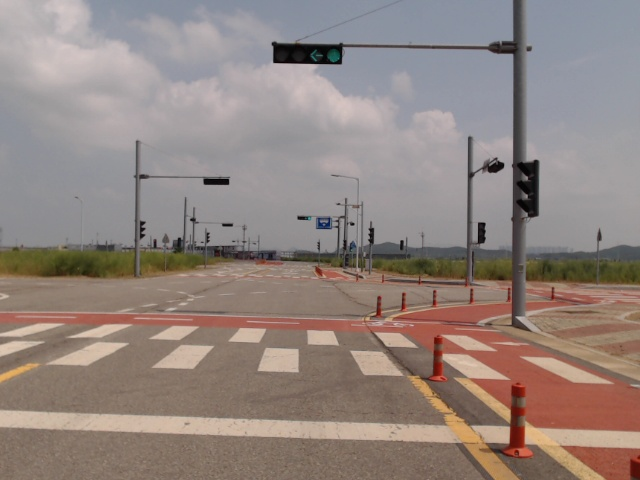all_green_4: (271, 43, 342, 65), (297, 215, 312, 220)
